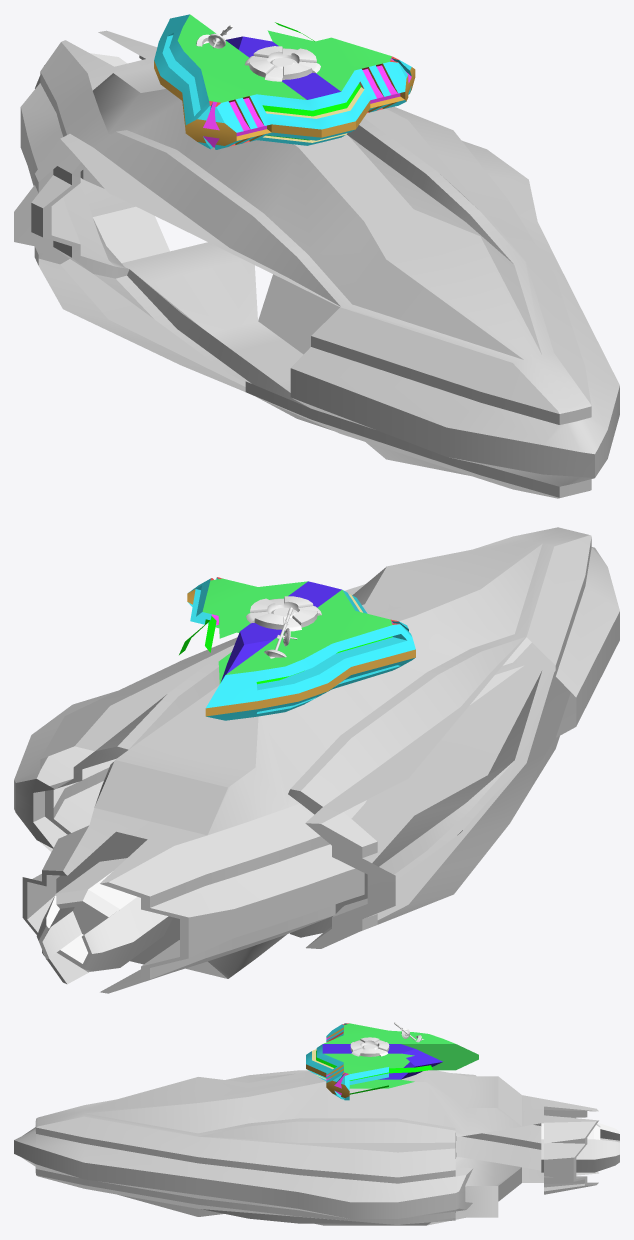
File: PatrolShip01DebrisUnity.fbx
3 views of the same model, one above another, from view 1: azimuth 30°, elevation 25°; view 2: azimuth 150°, elevation 25°; view 3: azimuth 270°, elevation 25° (orthographic). The views are drawn at different scales.
Visible parts, largest first — view 1: Hull.004; view 2: Hull.004; view 3: Hull.004.
Boxes of the visible parts, x1,y1,x2,y2 form: Hull.004: (14, 14, 619, 498); Hull.004: (14, 527, 619, 993); Hull.004: (14, 1022, 619, 1225).
Size of the model in its own units: 10.52 by 22.82 by 7.81.
